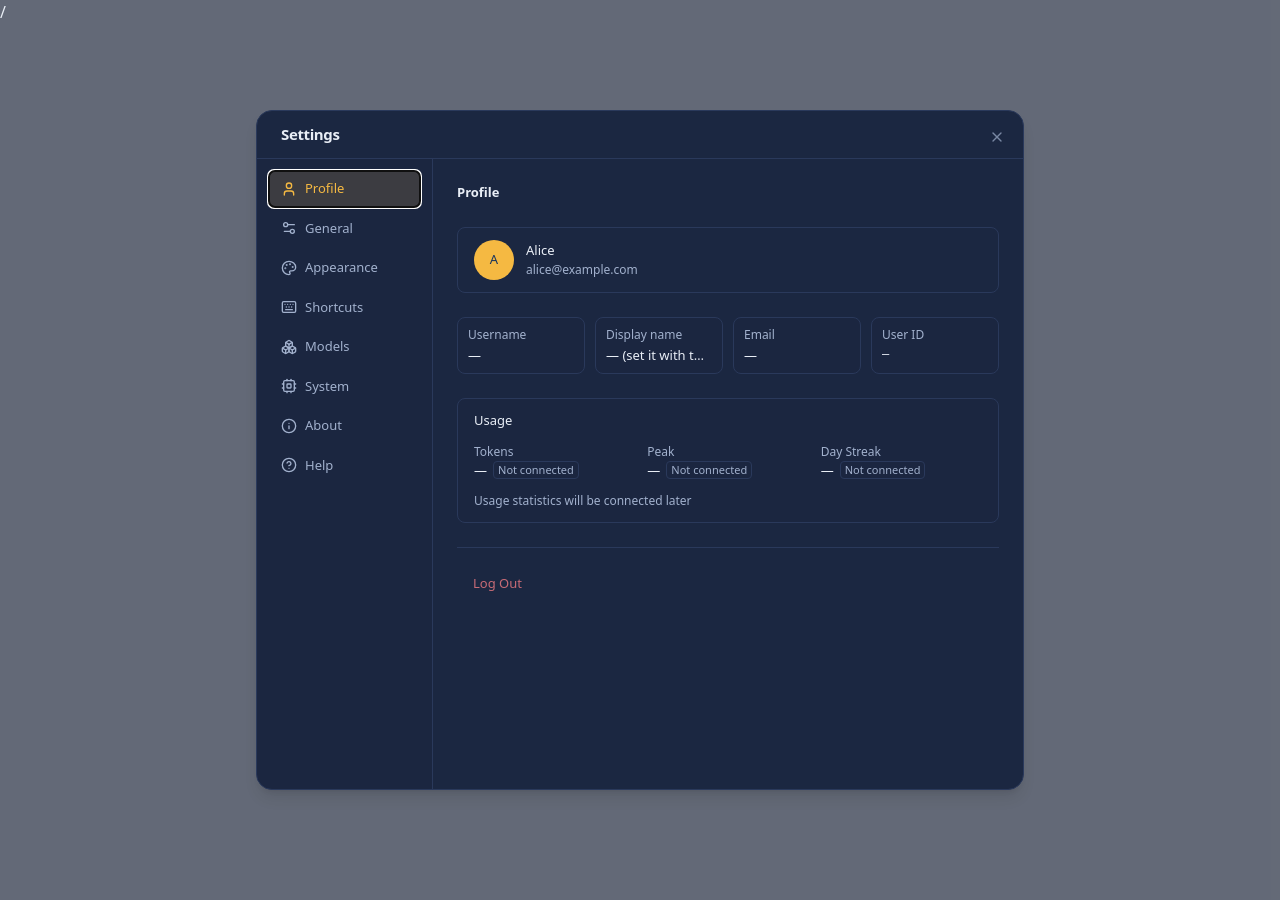
Scenario: SettingsDialog › B-07：模型分区 = 概览三格 + 添加按钮 + 常用/自定义分组列表（不再跳转）
The width and height of the screenshot is (1280, 900).
Click the button with test id "settings-dialog-nav-models" at (344, 347), box [269,329,420,364]
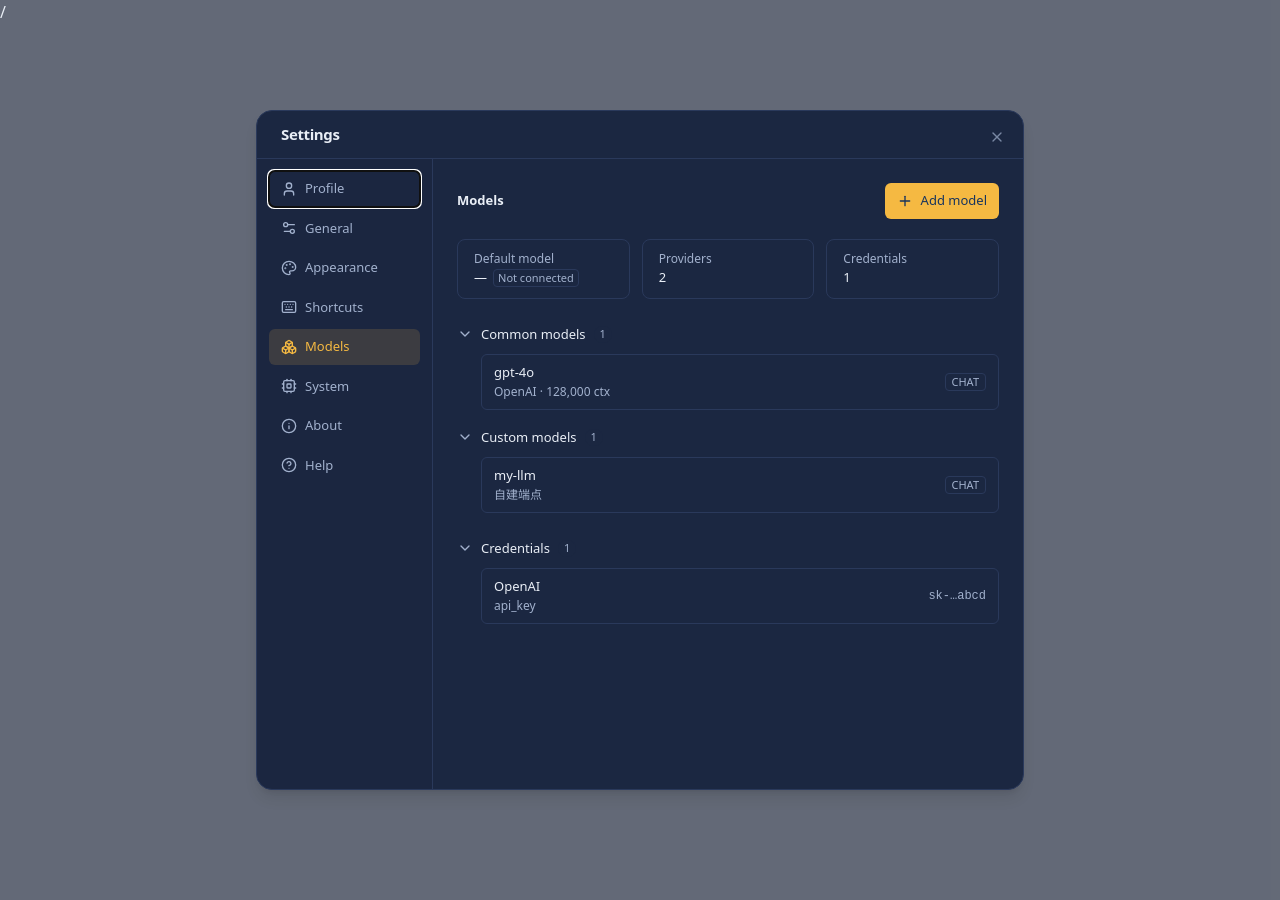
Check: the element with test id "settings-models" is shown, box [457,183,999,624]
Check: the element with test id "settings-models-default-model" shows "—", box [474,268,487,286]
Check: the element with test id "settings-models-default-model" shows "Not connected", box [498,270,574,285]
